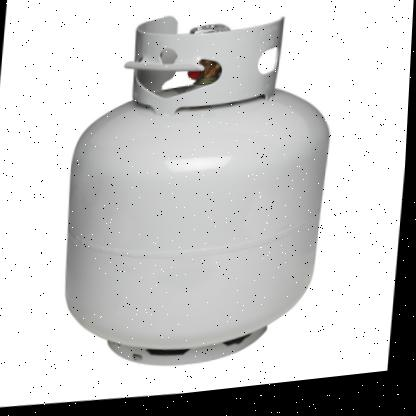gas-tank: (24, 0, 386, 400)
